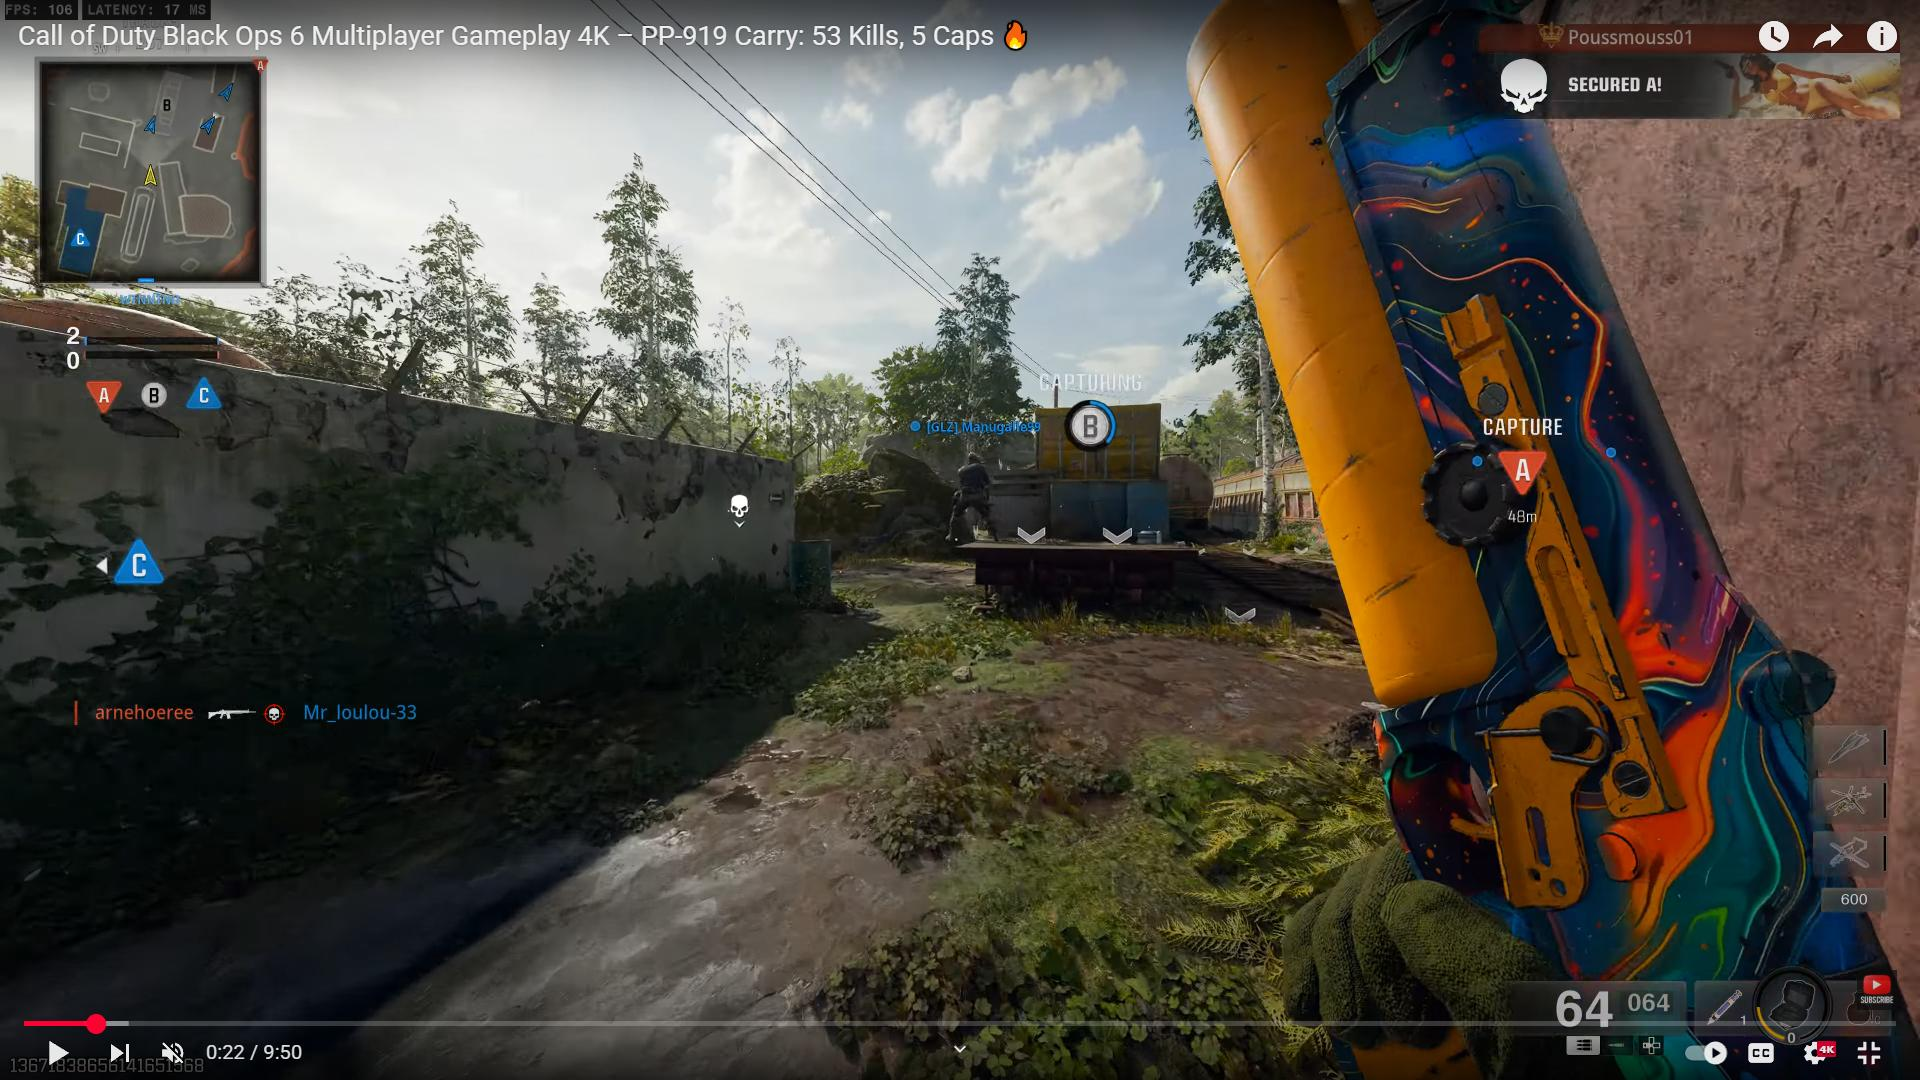Enemy: (944, 448, 994, 545)
